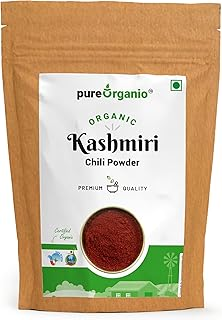Chilli Powder: (1, 2, 222, 320)
